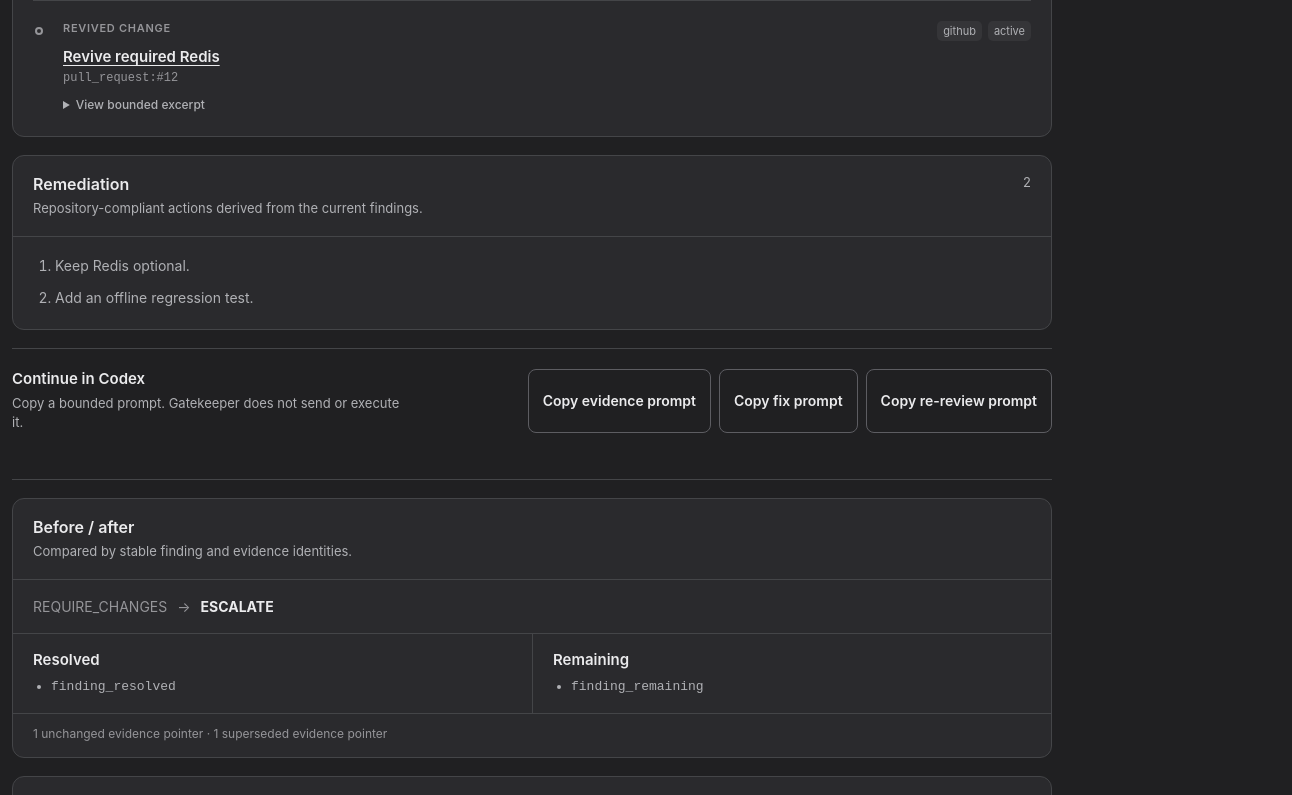
Review Inspector › announces clipboard failure
(page scrolled)
Click the button "Copy fix prompt": (788, 401) [719,369,858,433]
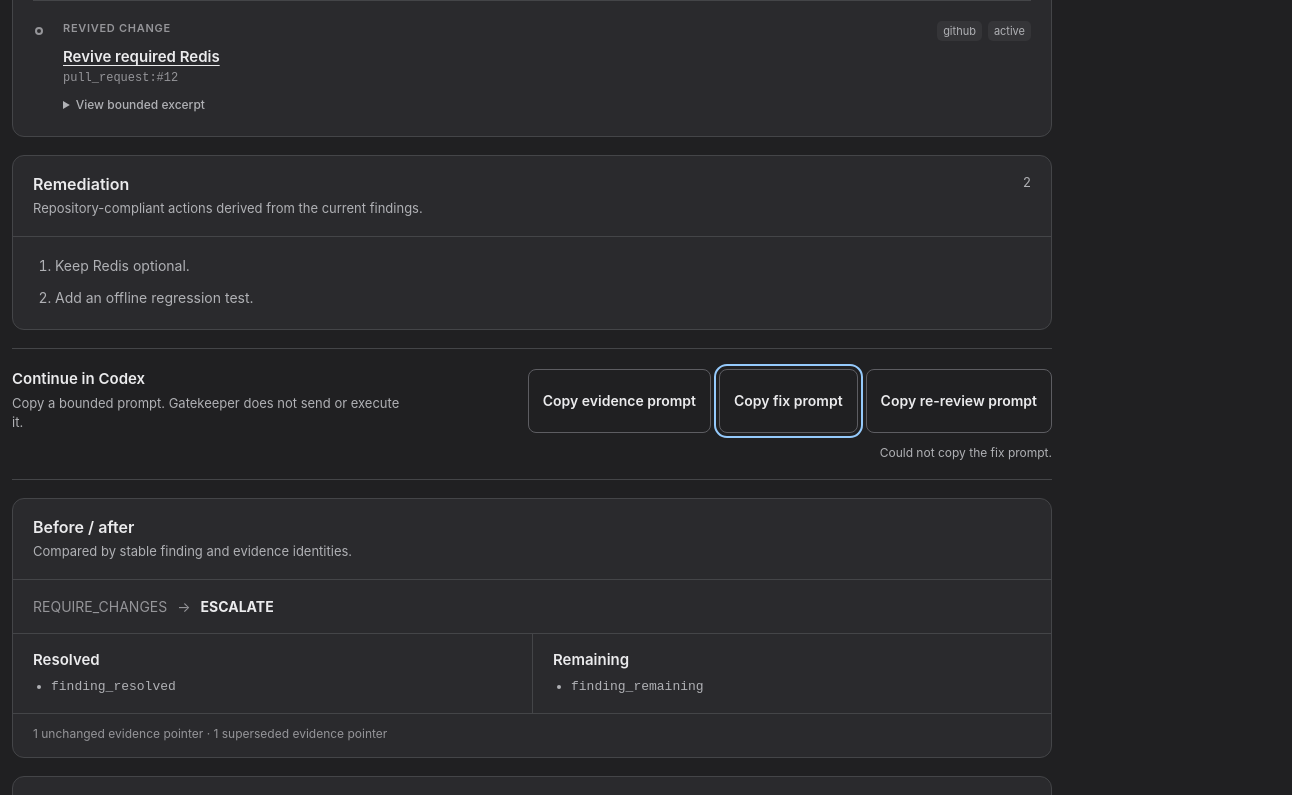
Expected: the text "Could not copy the fix prompt." is shown, [880,445,1052,460]
